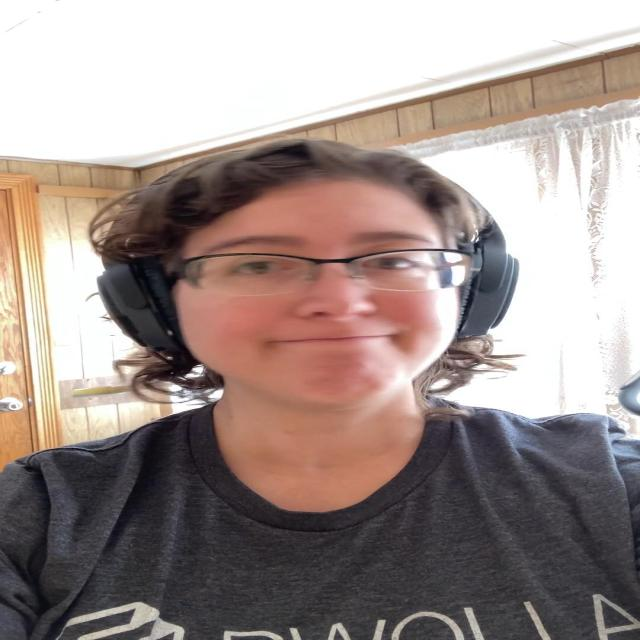no-helmet: (166, 174, 466, 411)
